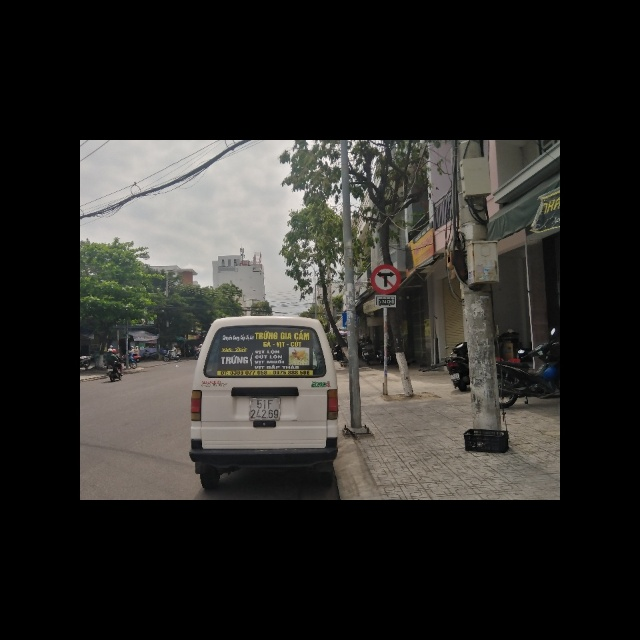Cấm rẽ trái và rẽ phải: (370, 264, 400, 295)
